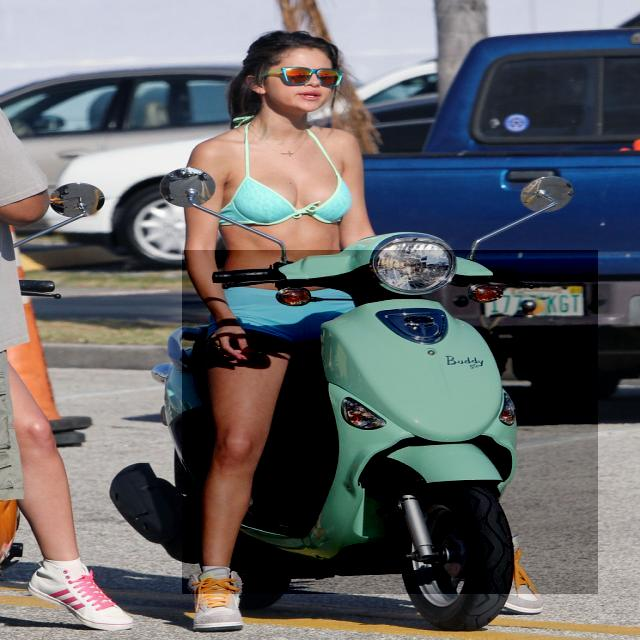Bike: (182, 250, 598, 594)
